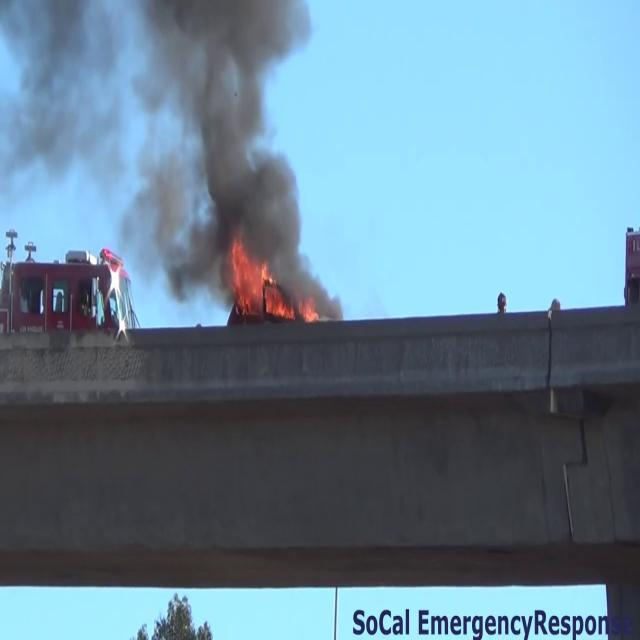Fire: (226, 240, 286, 321)
Smoke: (116, 0, 324, 299), (0, 0, 130, 231)
